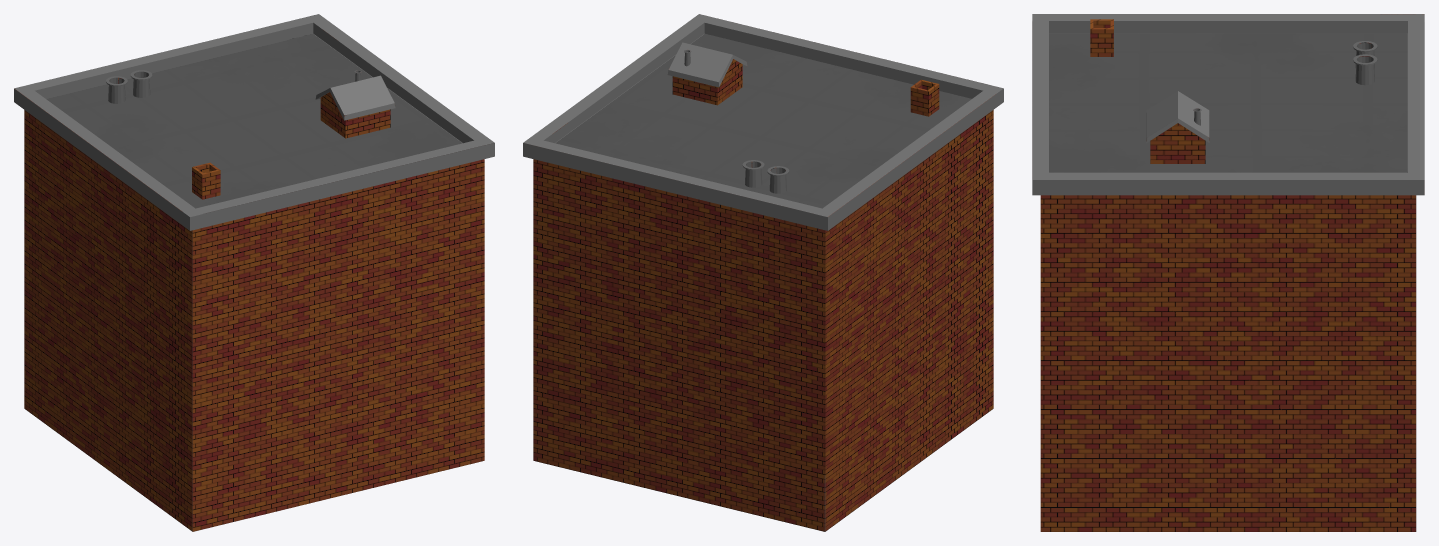
Rendered from building_1.fbx.
3 renders of one model, left to right at view 1: azimuth 30°, elevation 25°; view 2: azimuth 150°, elevation 25°; view 3: azimuth 270°, elevation 25°, orthographic. The views are drawn at different scales.
Visible parts, largest first — view 1: Building 1; view 2: Building 1; view 3: Building 1.
Boxes of the visible parts, box(x1,y1,x2,y2) form: Building 1: box(14, 14, 494, 531); Building 1: box(523, 14, 1003, 531); Building 1: box(1032, 14, 1424, 531).
Bounding box in the file's own units: 571 × 628 × 571.
Materials: 1 (1 with a texture image).
